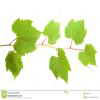grape leaf: (11, 17, 43, 55), (48, 48, 72, 85), (63, 17, 87, 45), (2, 53, 24, 82), (42, 19, 62, 46), (77, 43, 98, 68)
